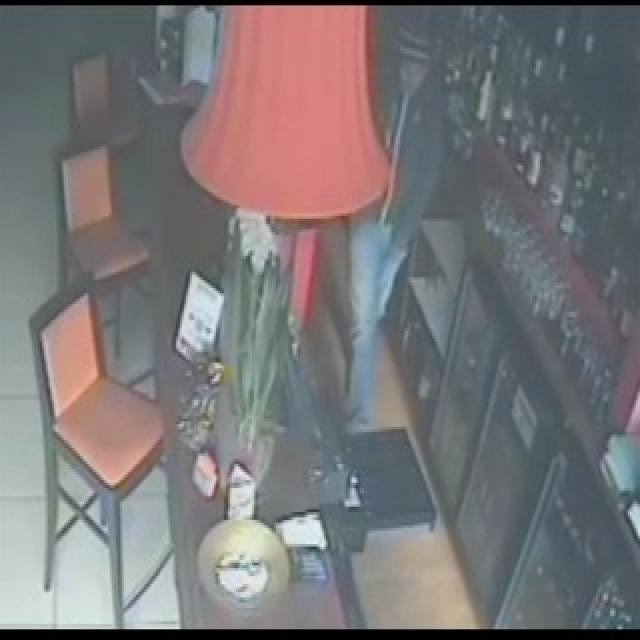thief: (372, 7, 476, 261)
